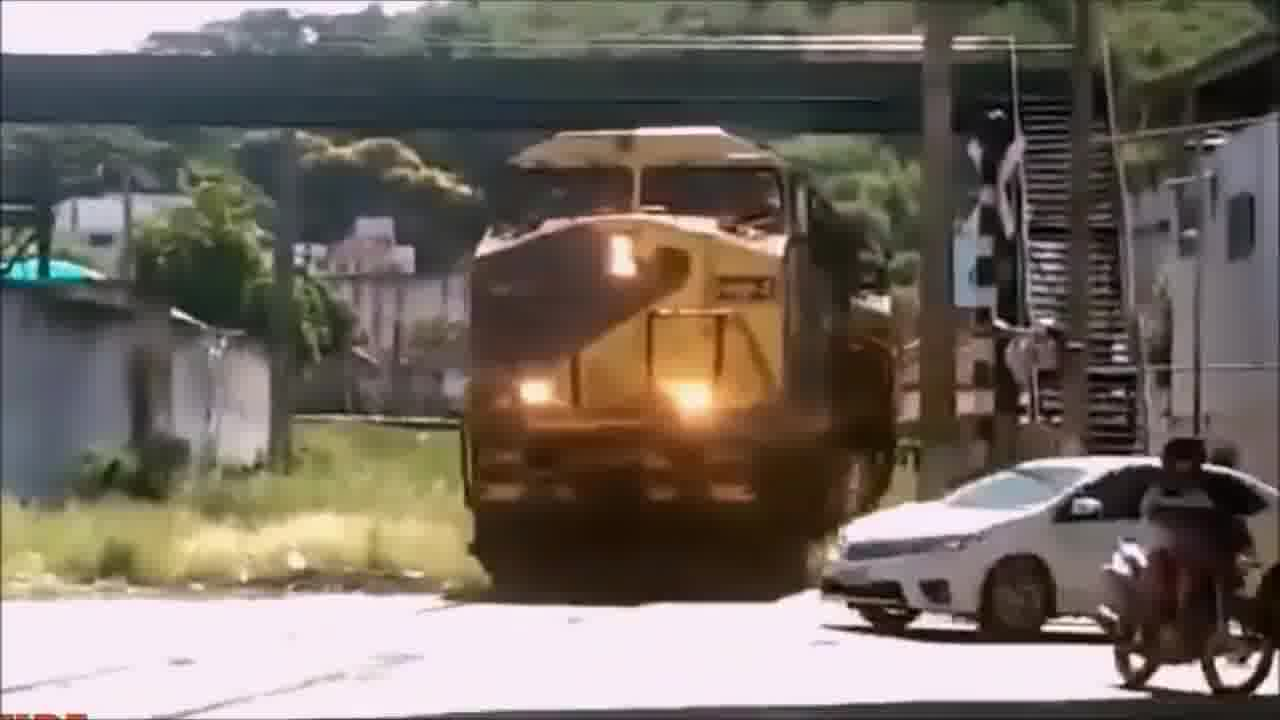crossing railway track: (810, 445, 1280, 655)
